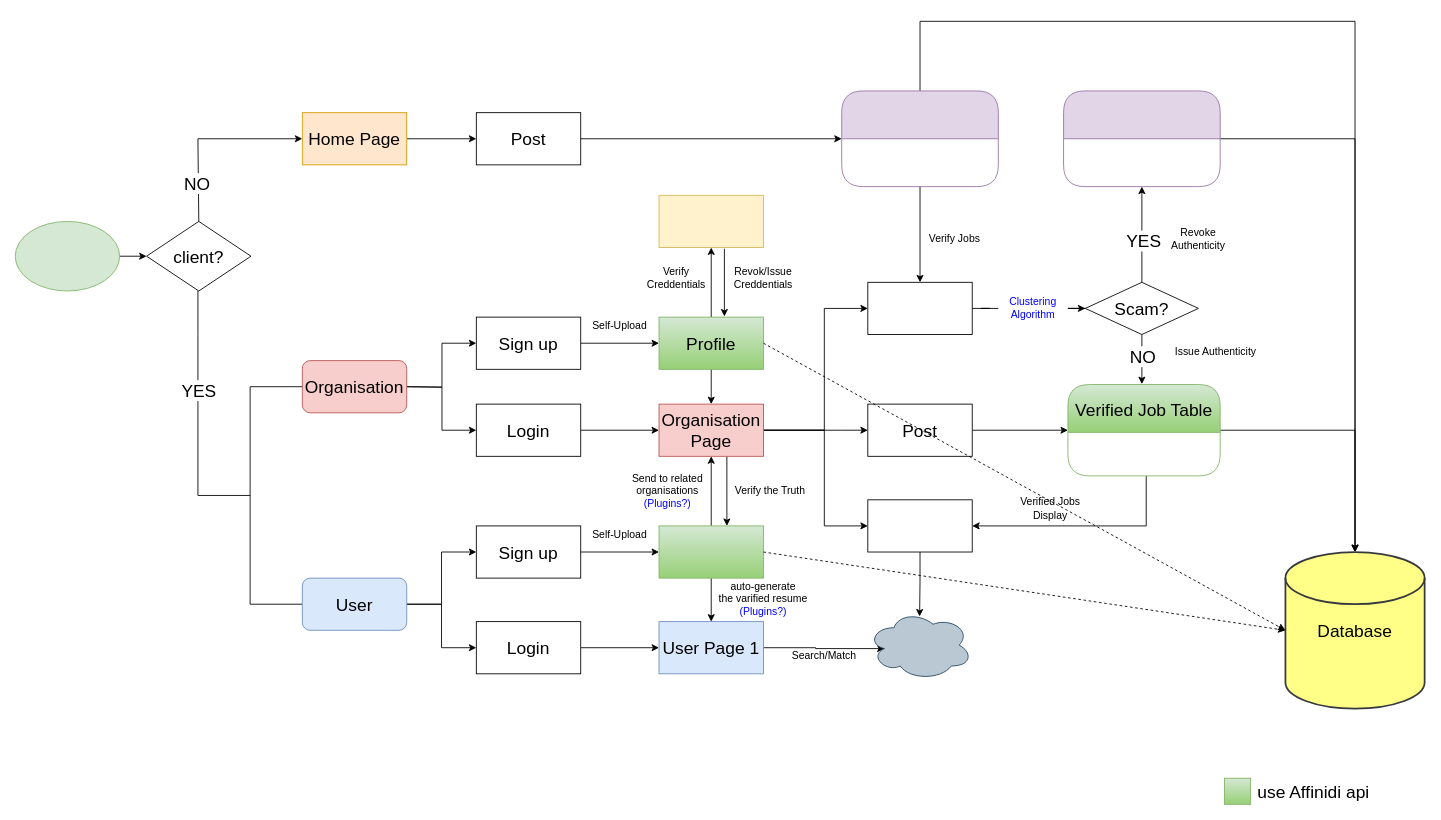
Some shapes in this 1441 by 820 pixel diagram are drawn without their labels. The centre of each missing label's shape, as x and y in pixels:
"Display" belongs at point (919, 525).
"Fake Job Table" belongs at point (1141, 138).
"Match" belongs at point (919, 644).
"Newbility" belongs at point (710, 221).
"Resume" belongs at point (710, 551).
"START" belongs at point (67, 256).
"Verify" belongs at point (919, 308).
"Waiting Job Table" belongs at point (919, 138).
